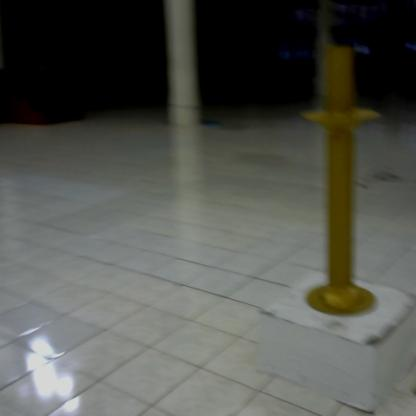pole: (294, 42, 386, 325)
